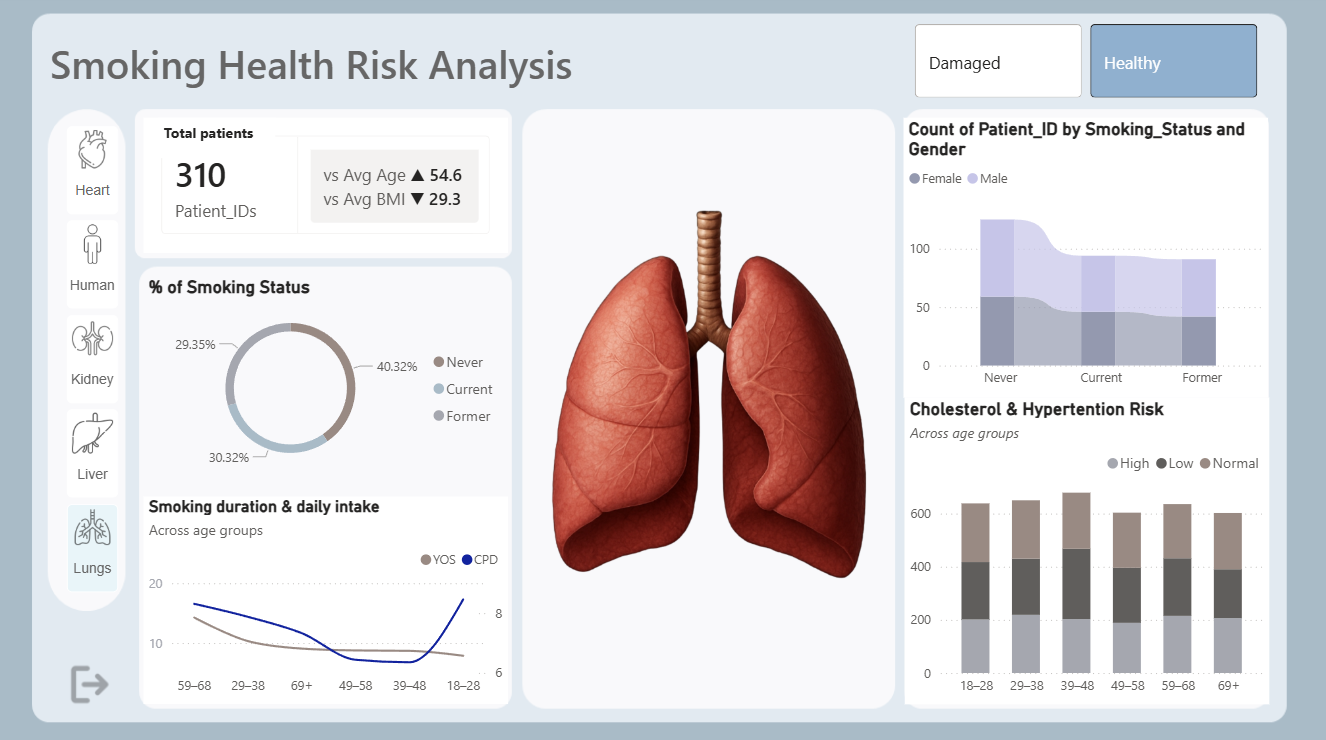

The page's visual inventory and layout, read from the dashboard file:
{"tool":"powerbi","page":{"name":"Page 1","canvas":[1280,720],"ordinal":0},"visuals":[{"type":"cardVisual","fields":{"Data":["CountNonNull(health_dataset.Patient_ID)"]},"box":[145.5,118,347.2,129],"z":0},{"type":"advancedSlicerVisual","fields":{"Values":["condition.Organ_Condition"]},"box":[875.5,23.3,336.2,81],"z":1},{"type":"ChicletSlicer1448559807354","fields":{"Category":["Organs.Organ"],"Image":["Organs.Icon_URL"]},"box":[64.5,118,70,465.2],"z":2},{"type":"image","box":[511.8,118,347.2,558.5],"z":3},{"type":"donutChart","title":"% of Smoking Status","fields":{"Category":["health_dataset.Smoking_Status"],"Y":["CountNonNull(health_dataset.Smoking_Status)"]},"box":[145.5,269,347.2,193.5],"z":4},{"type":"lineChart","title":"Smoking duration & daily intake ","fields":{"Category":["health_dataset.Age Group"],"Y":["Avg(health_dataset.Years_of_Smoking)"],"Y2":["Avg(health_dataset.Cigarettes_Per_Day)"]},"box":[145.5,478.9,347.2,197.6],"z":5},{"type":"ribbonChart","fields":{"Category":["health_dataset.Smoking_Status"],"Y":["CountNonNull(health_dataset.Patient_ID)"],"Series":["health_dataset.Gender"]},"box":[868.6,118,347.2,266.2],"z":6},{"type":"columnChart","title":"Cholesterol & Hypertention Risk","fields":{"Category":["health_dataset.Age Group"],"Y":["Avg(health_dataset.Cholesterol_Level)"],"Series":["health_dataset.BP_Risk"]},"box":[870,384.2,347.2,292.3],"z":7},{"type":"textbox","box":[159.2,118,111.1,38.4],"z":8},{"type":"textbox","box":[50.8,35.7,668.3,68.6],"z":9}]}

Visuals, with their boxes in screenshot pixels (x1, y1, x2, y2), scaled from the page's 1280x720 canvas onto the 1326x740 screenshot:
cardVisual - CountNonNull(health_dataset.Patient_ID): [151, 121, 510, 254]
advancedSlicerVisual - condition.Organ_Condition: [907, 24, 1255, 107]
ChicletSlicer1448559807354 - Organs.Organ x Organs.Icon_URL: [67, 121, 139, 599]
image: [530, 121, 890, 695]
"% of Smoking Status" donutChart: [151, 276, 510, 475]
"Smoking duration & daily intake " lineChart: [151, 492, 510, 695]
ribbonChart - health_dataset.Smoking_Status x CountNonNull(health_dataset.Patient_ID): [900, 121, 1259, 395]
"Cholesterol & Hypertention Risk" columnChart: [901, 395, 1261, 695]
textbox: [165, 121, 280, 161]
textbox: [53, 37, 745, 107]
